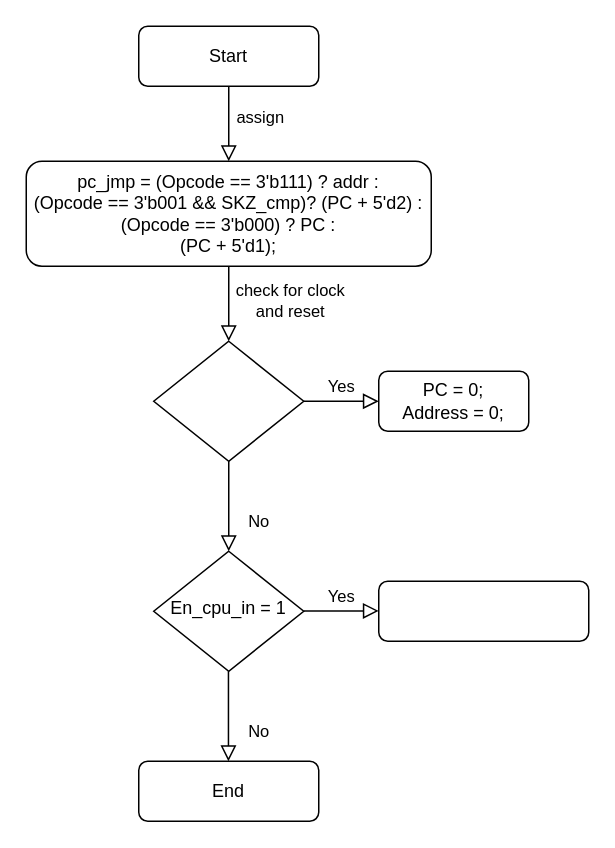
The diagram is 615 pixels wide and 848 high, and some of its shapes have lost their labels. Each missing label, with the centre of its shape:
"PC = Program_counter Address = addr" goes at point 483,610.
"reset = 1" goes at point 228,400.
